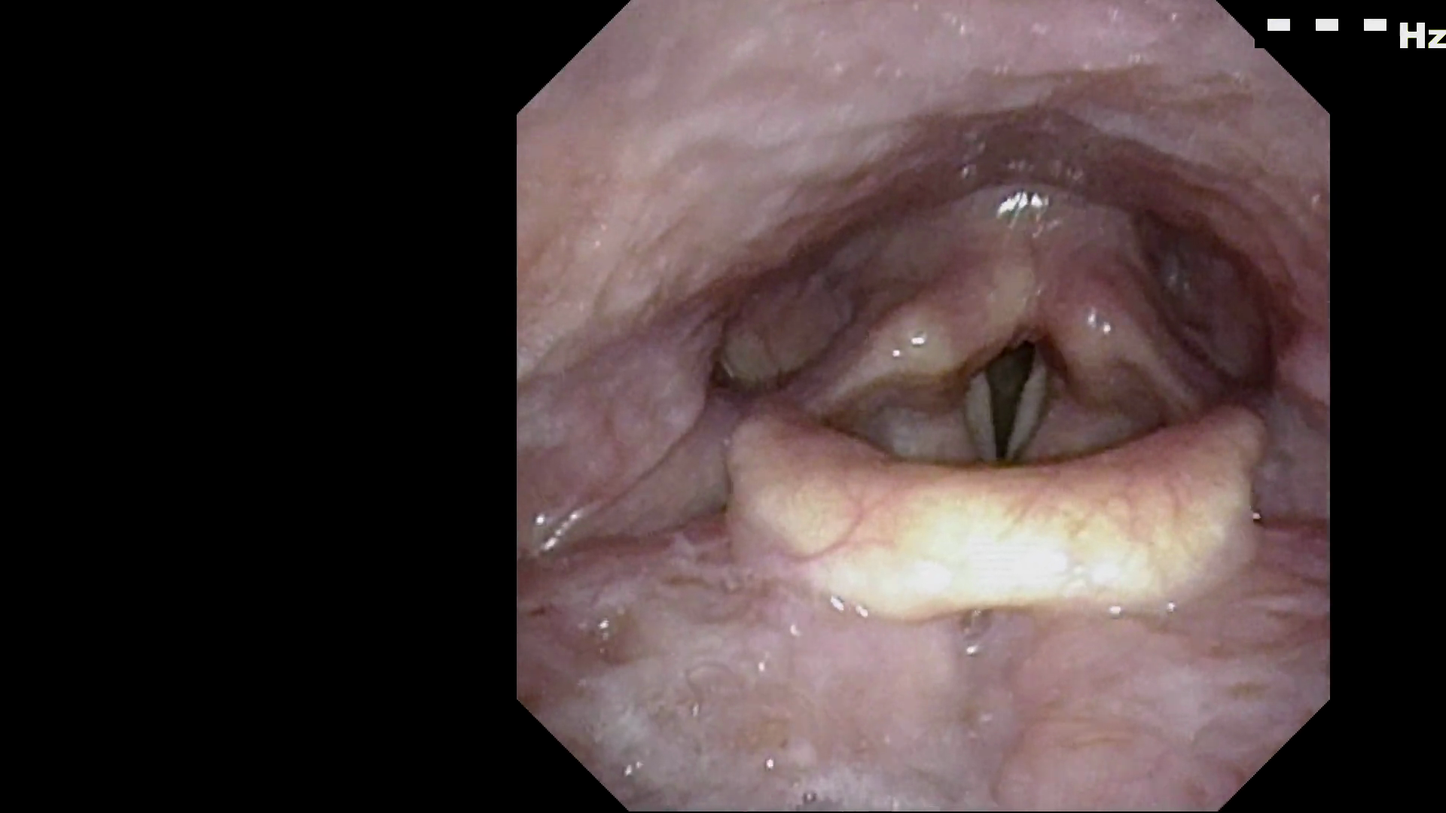epiglottis: (695, 389, 1266, 637)
trachea: (937, 313, 1083, 494)
